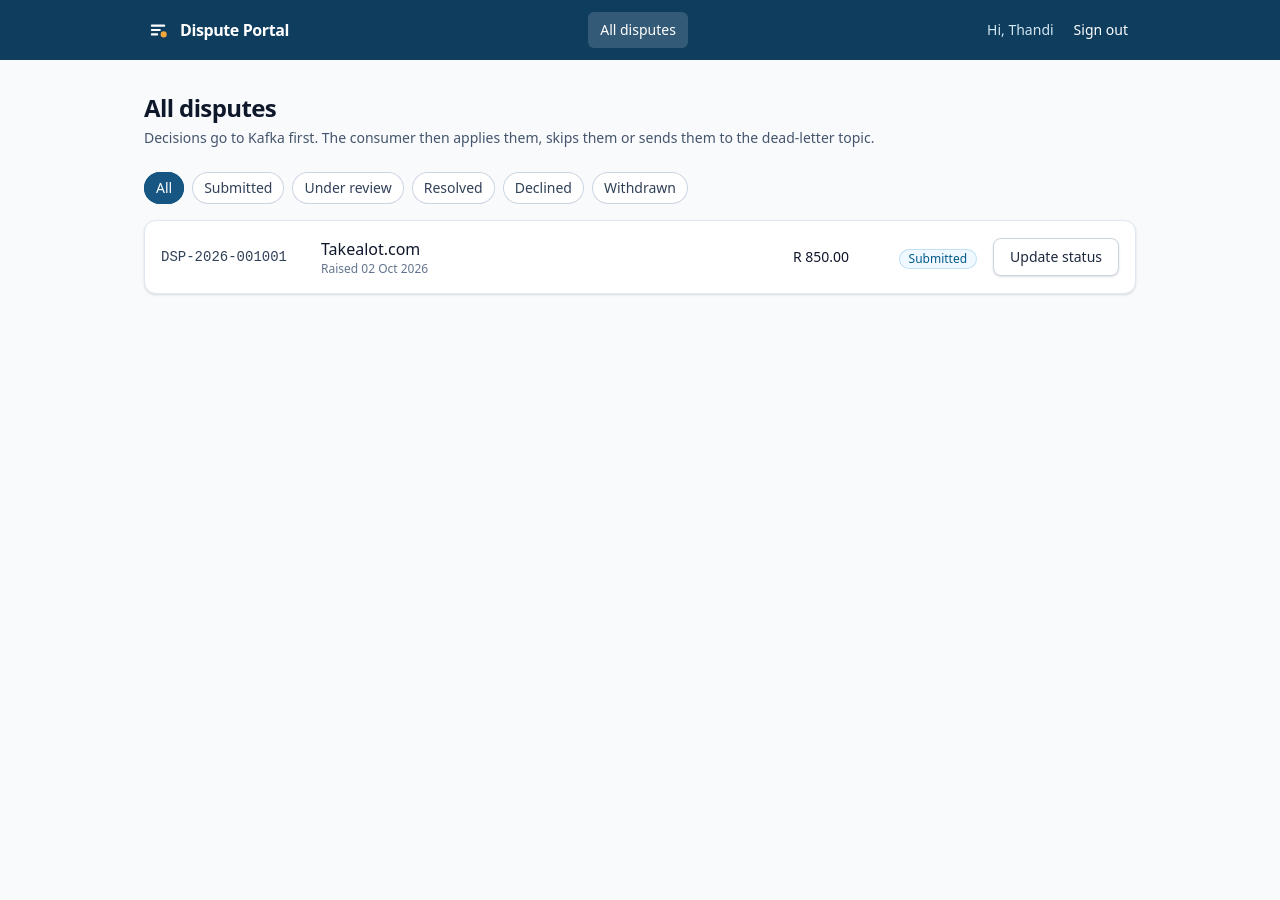
Test case: AgentDisputesPage › warns about a move that will fail, but still sends it
The image size is (1280, 900).
Click the button "Update status" at (1056,257), box x1=993 y1=238 x2=1119 y2=276
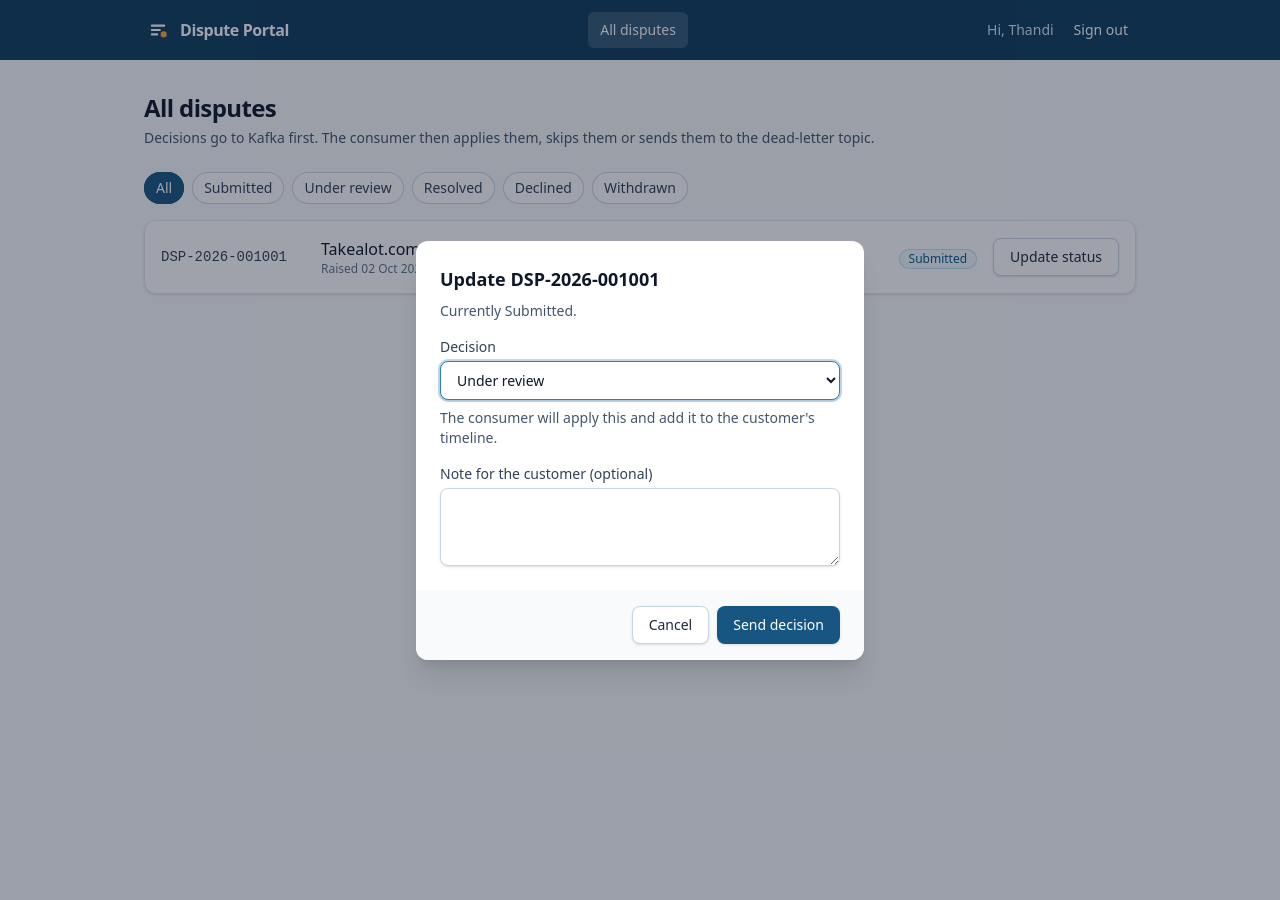
Select "Refund issued" in the dropdown labelled "Decision" at (640,380), box x1=440 y1=360 x2=840 y2=400
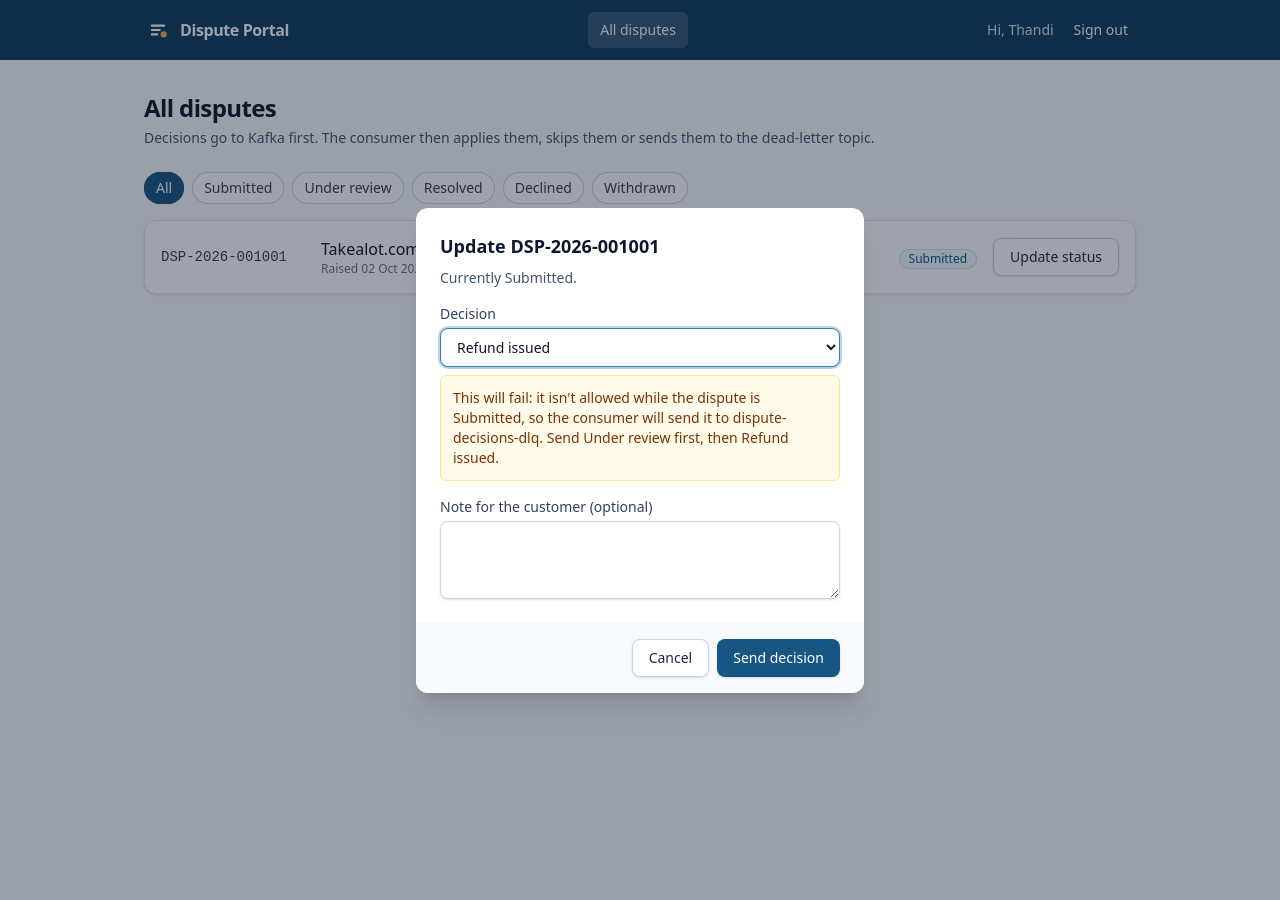
Click the button "Send decision" at (779,658), box x1=717 y1=638 x2=840 y2=676
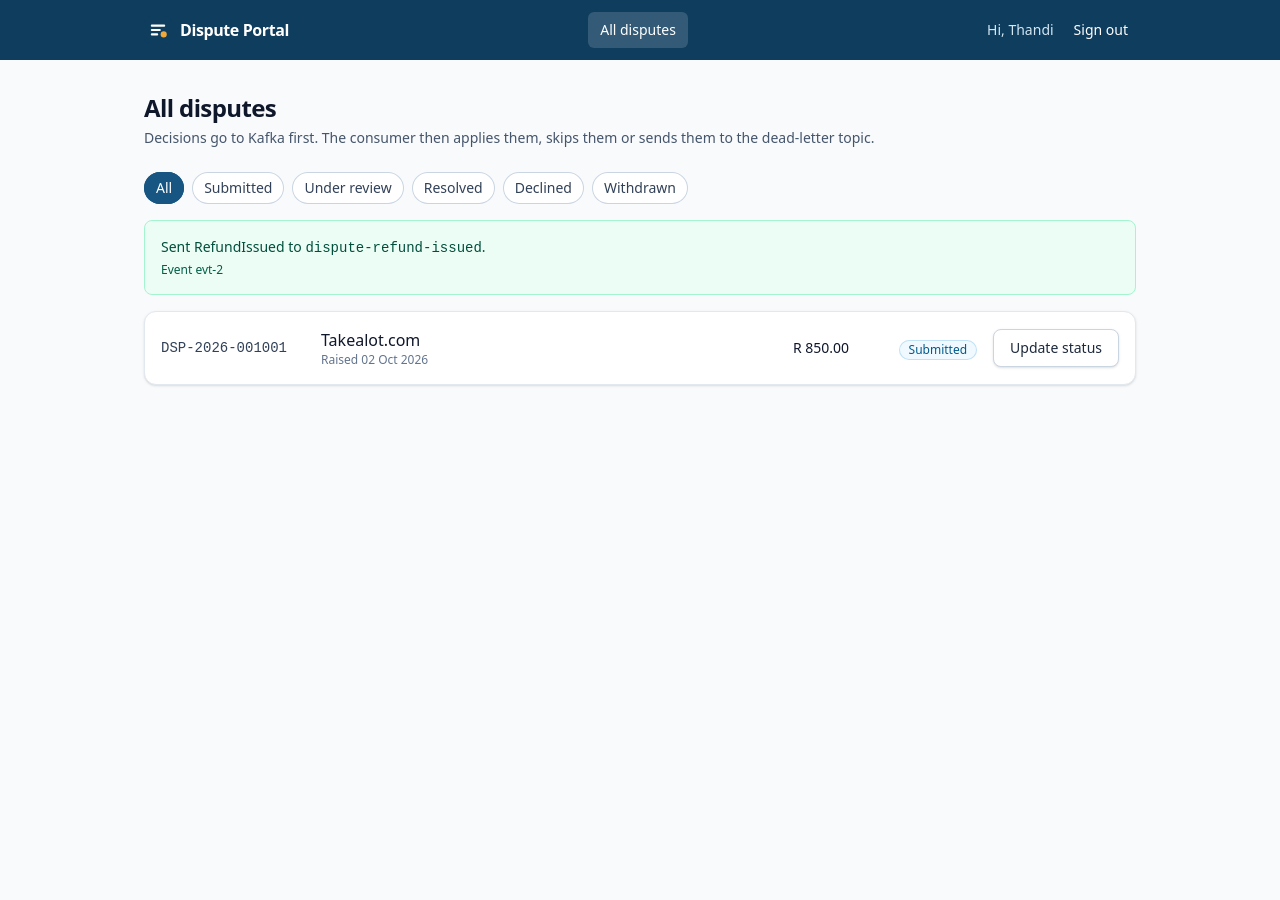
Expected: the message shows "dispute-refund-issued", x1=305 y1=240 x2=482 y2=256
Expected: the text "RefundIssued" is shown, x1=194 y1=237 x2=285 y2=256
